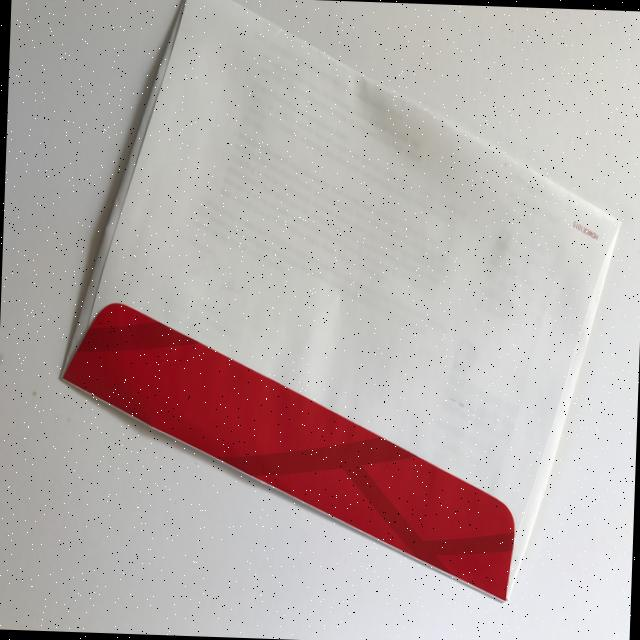paper: (50, 0, 629, 607)
